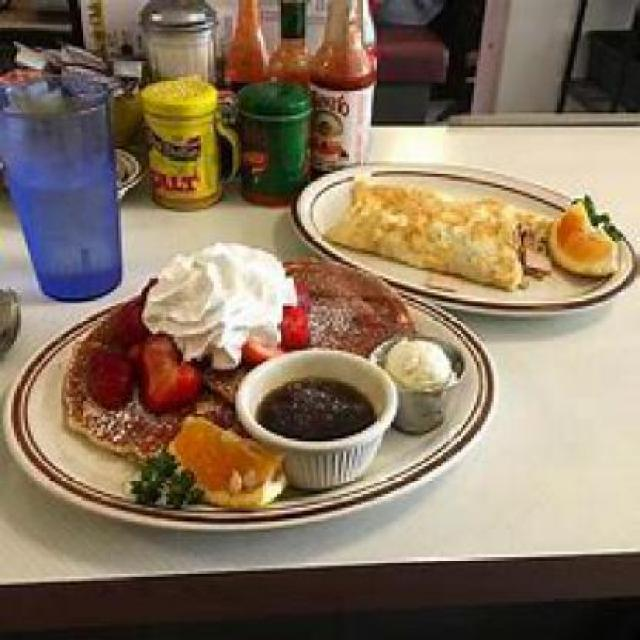ice cream: (377, 328, 465, 398)
omelette: (329, 171, 554, 292)
pancakes: (56, 259, 422, 447)
